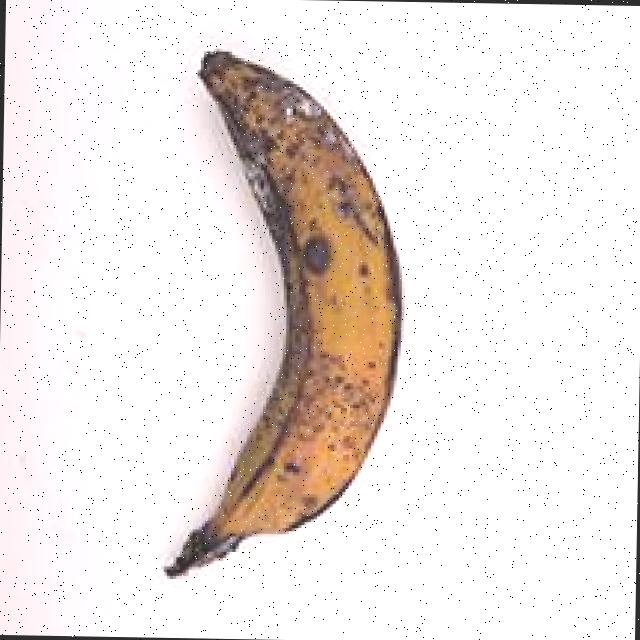Overripe: (95, 14, 448, 612)
